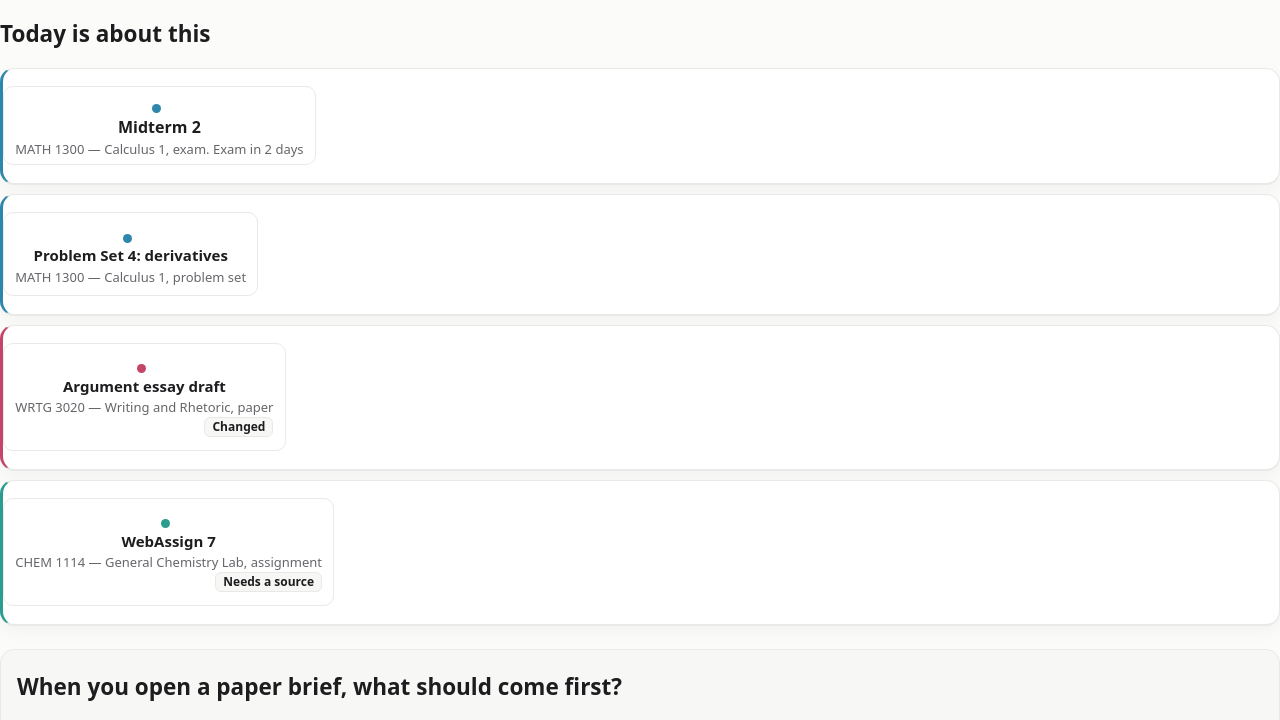
Test: brief islands › at a narrow width opens the brief as a sheet and returns focus to its island
Click the button "Problem Set 4". click: click(131, 254)
box: left=3, top=212, right=258, bottom=296
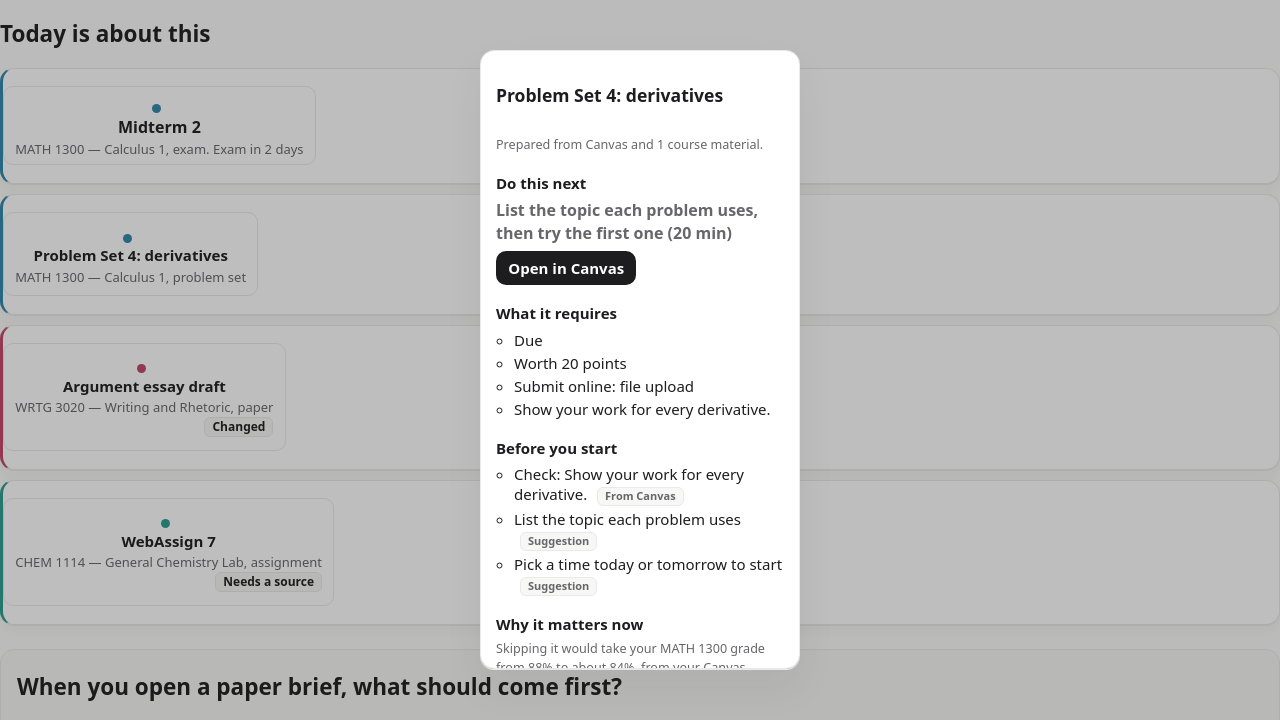
Press Escape
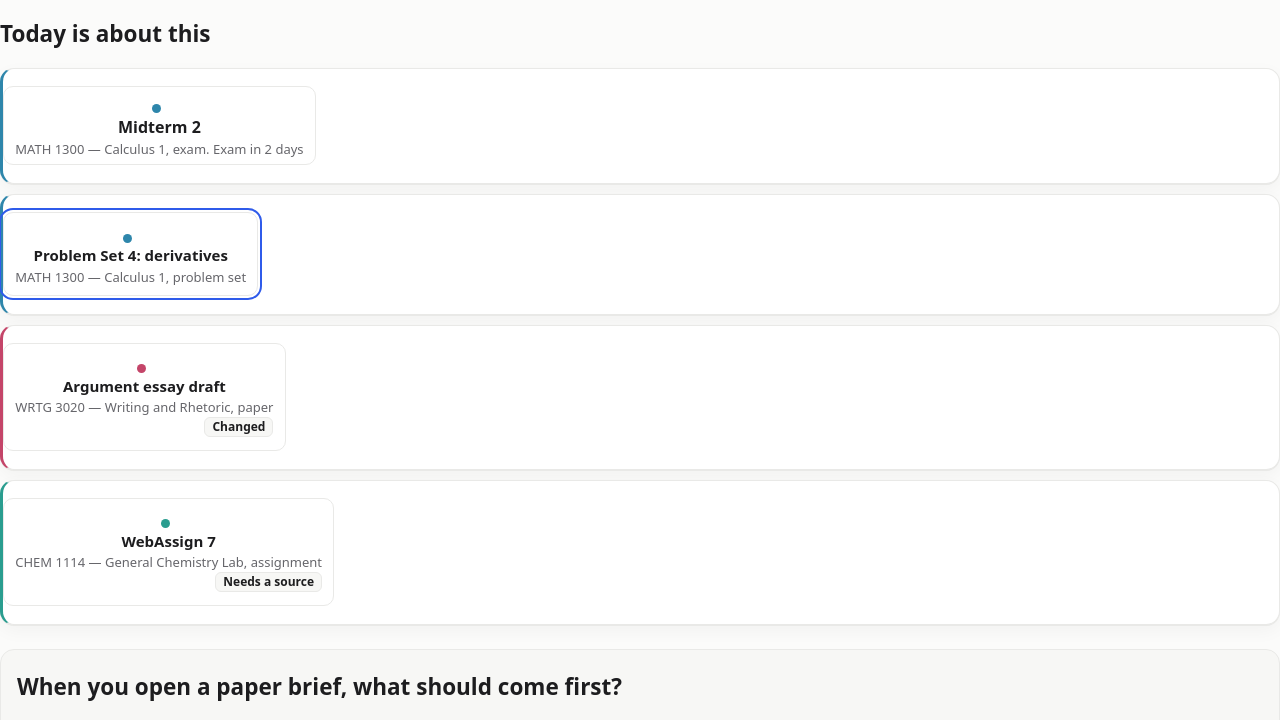
Expected: the dialog is gone
